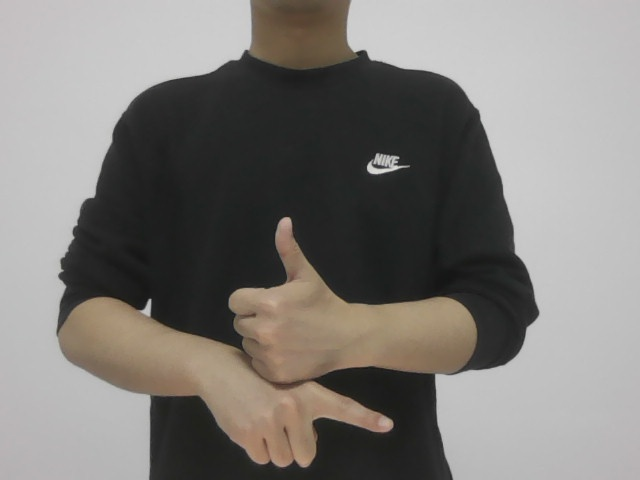birthday: (204, 216, 402, 465)
